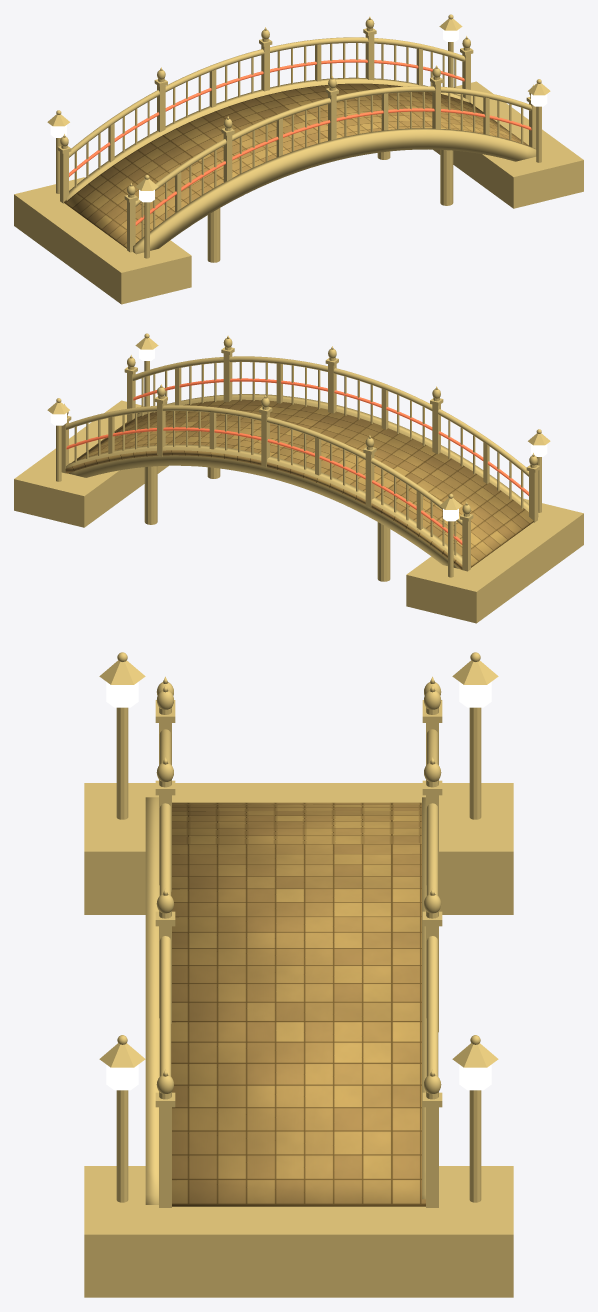
The model's file is bridge.glb.
3 renders of one model, top to bottom at view 1: azimuth 30°, elevation 25°; view 2: azimuth 150°, elevation 25°; view 3: azimuth 270°, elevation 25°, orthographic. The views are drawn at different scales.
Parts seen in each view (by area): view 1: deck, abutment, girder, abutment.001, rail.002, girder.001, rail, rail.001, rail.003, Cylinder.068, Cylinder.066, post (+7 smaller); view 2: deck, abutment, abutment.001, girder.001, rail, rail.002, girder, rail.003, rail.001, Cylinder.069, Cylinder.067, post.011 (+7 smaller); view 3: deck, abutment.001, abutment, girder, rail, rail.002, girder.001, Cylinder.058, Cylinder.060, Cylinder.062, Cylinder.064, post.008 (+1 smaller).
Boxes of the visible parts, x1,y1,x2,y2 form: deck: [64, 83, 528, 248]; abutment: [14, 177, 191, 304]; girder: [133, 128, 536, 254]; abutment.001: [433, 81, 583, 208]; rail.002: [69, 37, 465, 157]; girder.001: [66, 77, 469, 200]; rail: [135, 86, 531, 206]; rail.001: [135, 108, 531, 225]; rail.003: [69, 59, 464, 176]; Cylinder.068: [440, 149, 453, 205]; Cylinder.066: [207, 208, 220, 262]; post: [127, 201, 135, 252]; deck: [65, 399, 533, 569]; abutment: [406, 498, 583, 623]; abutment.001: [14, 400, 168, 527]; girder.001: [66, 444, 462, 568]; rail: [132, 356, 528, 476]; rail.002: [66, 405, 462, 525]; girder: [137, 394, 538, 516]; rail.003: [66, 427, 462, 544]; rail.001: [133, 378, 528, 495]; Cylinder.069: [144, 466, 157, 524]; Cylinder.067: [377, 522, 390, 581]; post.011: [365, 453, 374, 507]; deck: [171, 802, 425, 1206]; abutment.001: [84, 1166, 513, 1297]; abutment: [84, 783, 513, 914]; girder: [145, 797, 159, 1204]; rail: [159, 729, 171, 1076]; rail.002: [426, 729, 438, 1076]; girder.001: [422, 797, 426, 1199]; Cylinder.058: [116, 707, 128, 819]; Cylinder.060: [469, 707, 481, 819]; Cylinder.062: [116, 1090, 128, 1202]; Cylinder.064: [469, 1090, 481, 1202]; post.008: [159, 1107, 171, 1207].
Bounding box in the file's own units: 9.2 × 3 × 3.7.
Materials: 4 (1 with a texture image).
